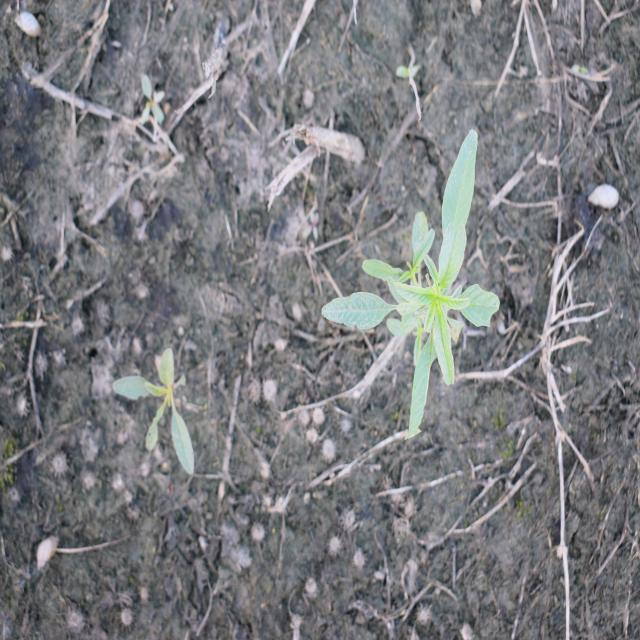Waterhemp: (320, 126, 502, 442), (112, 346, 197, 477)
